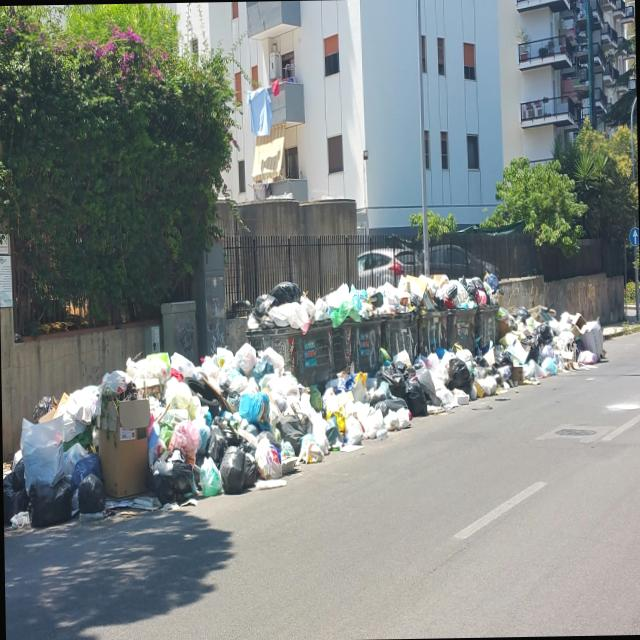garbage: (6, 268, 612, 529)
